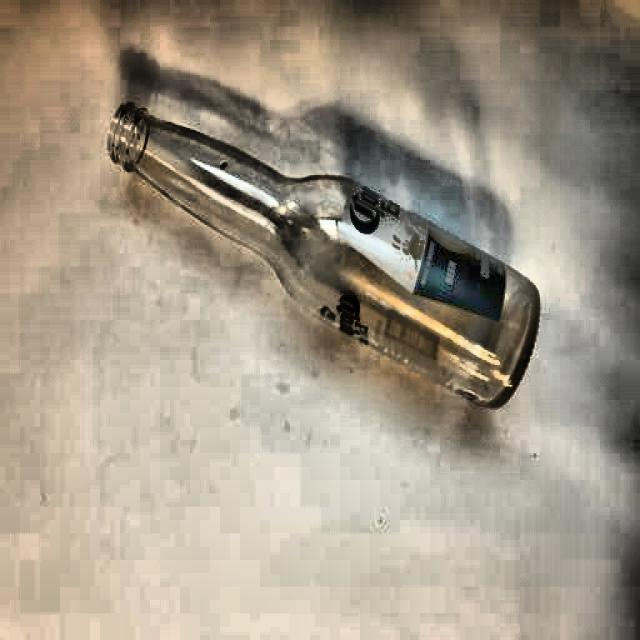glass: (101, 95, 548, 415)
